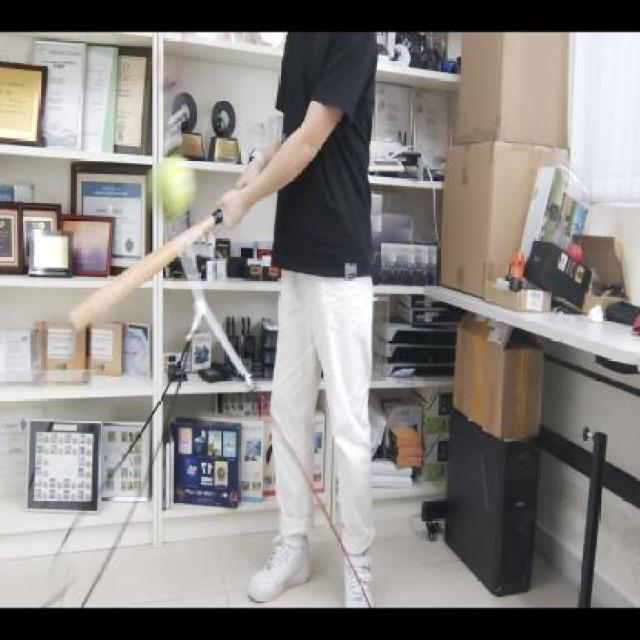baseball: (145, 154, 198, 226)
